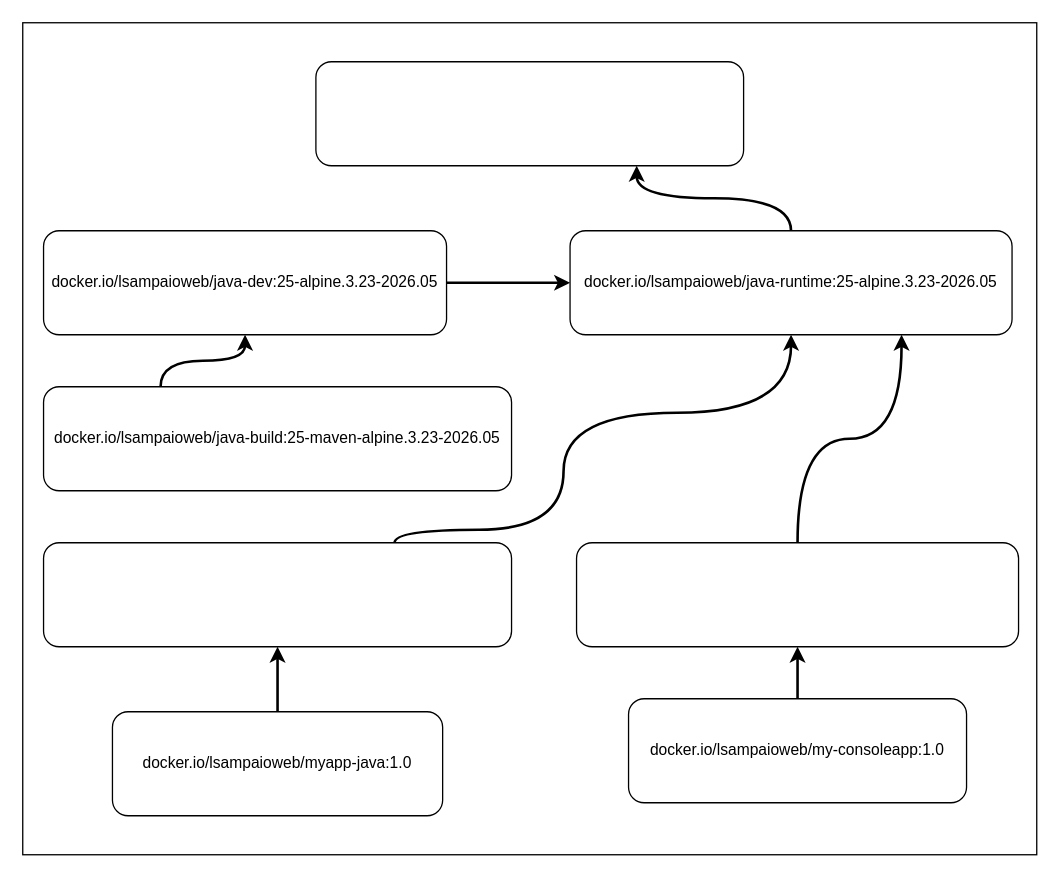
Image size: 1060x877. Some labels were removed from this diagram. Here are the shapes that lost their labels. From the top down, the centre of each, then its label:
the point at 529,113: docker.io/lsampaioweb/java-base:alpine.3.23-2026.05
the point at 277,594: docker.io/lsampaioweb/java-web:25-alpine.3.23-2026.05
the point at 797,594: docker.io/lsampaioweb/java-console:25-alpine.3.23-2026.05
